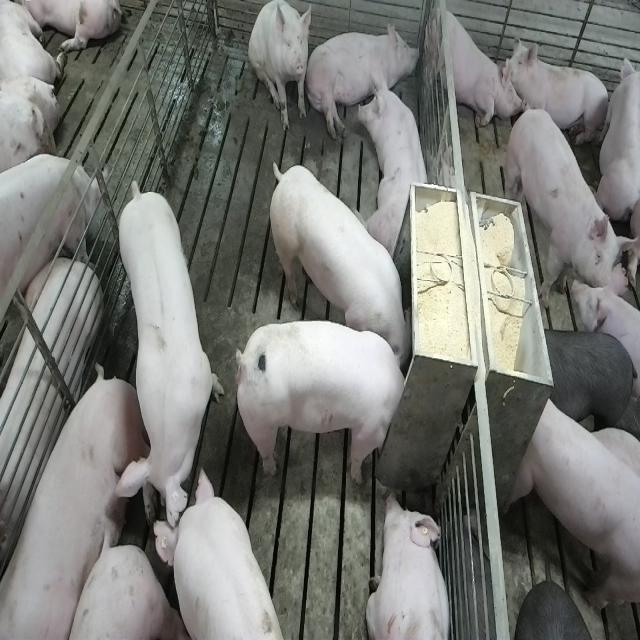Feeding: (264, 160, 412, 366), (241, 318, 416, 484)
Lateral_lying: (4, 368, 159, 640), (305, 20, 422, 141)
Sitting: (425, 0, 516, 132), (248, 2, 312, 134)
Standing: (111, 182, 218, 548), (508, 395, 638, 616), (508, 101, 630, 315), (150, 469, 283, 640), (0, 157, 101, 351), (543, 324, 637, 442)
Sternal_lying: (362, 64, 433, 258), (366, 490, 452, 640), (505, 36, 612, 152)
